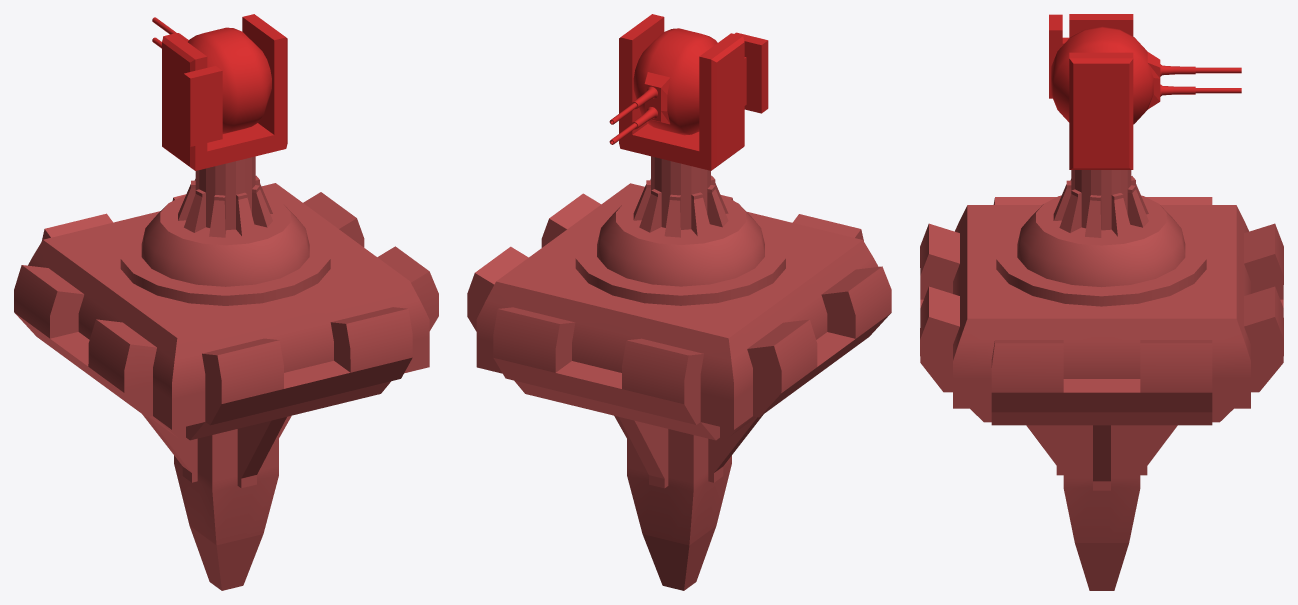
The model's file is Space Tower Level 1.FBX.
3 renders of one model, left to right at view 1: azimuth 30°, elevation 25°; view 2: azimuth 150°, elevation 25°; view 3: azimuth 270°, elevation 25°, orthographic.
Parts seen in each view (by area): view 1: Tower Base, Tower turning structure, GunBox, Tower turning base, Gun implacement; view 2: Tower Base, Tower turning structure, GunBox, Tower turning base, Gun implacement; view 3: Tower Base, Tower turning structure, GunBox, Tower turning base, Gun implacement, Lower Gun part.
Boxes of the visible parts, x1,y1,x2,y2 form: Tower Base: [14, 183, 438, 590]; Tower turning structure: [141, 156, 309, 286]; GunBox: [162, 14, 287, 170]; Tower turning base: [120, 217, 330, 305]; Gun implacement: [188, 27, 271, 133]; Tower Base: [467, 183, 891, 590]; Tower turning structure: [597, 156, 764, 286]; GunBox: [619, 14, 768, 170]; Tower turning base: [575, 217, 785, 305]; Gun implacement: [633, 28, 717, 135]; Tower Base: [920, 197, 1283, 590]; Tower turning structure: [1017, 170, 1185, 287]; GunBox: [1049, 14, 1133, 169]; Tower turning base: [996, 218, 1206, 306]; Gun implacement: [1051, 26, 1160, 124]; Lower Gun part: [1160, 64, 1195, 96].
Bounding box in the file's own units: 61.08 × 102 × 61.08.
